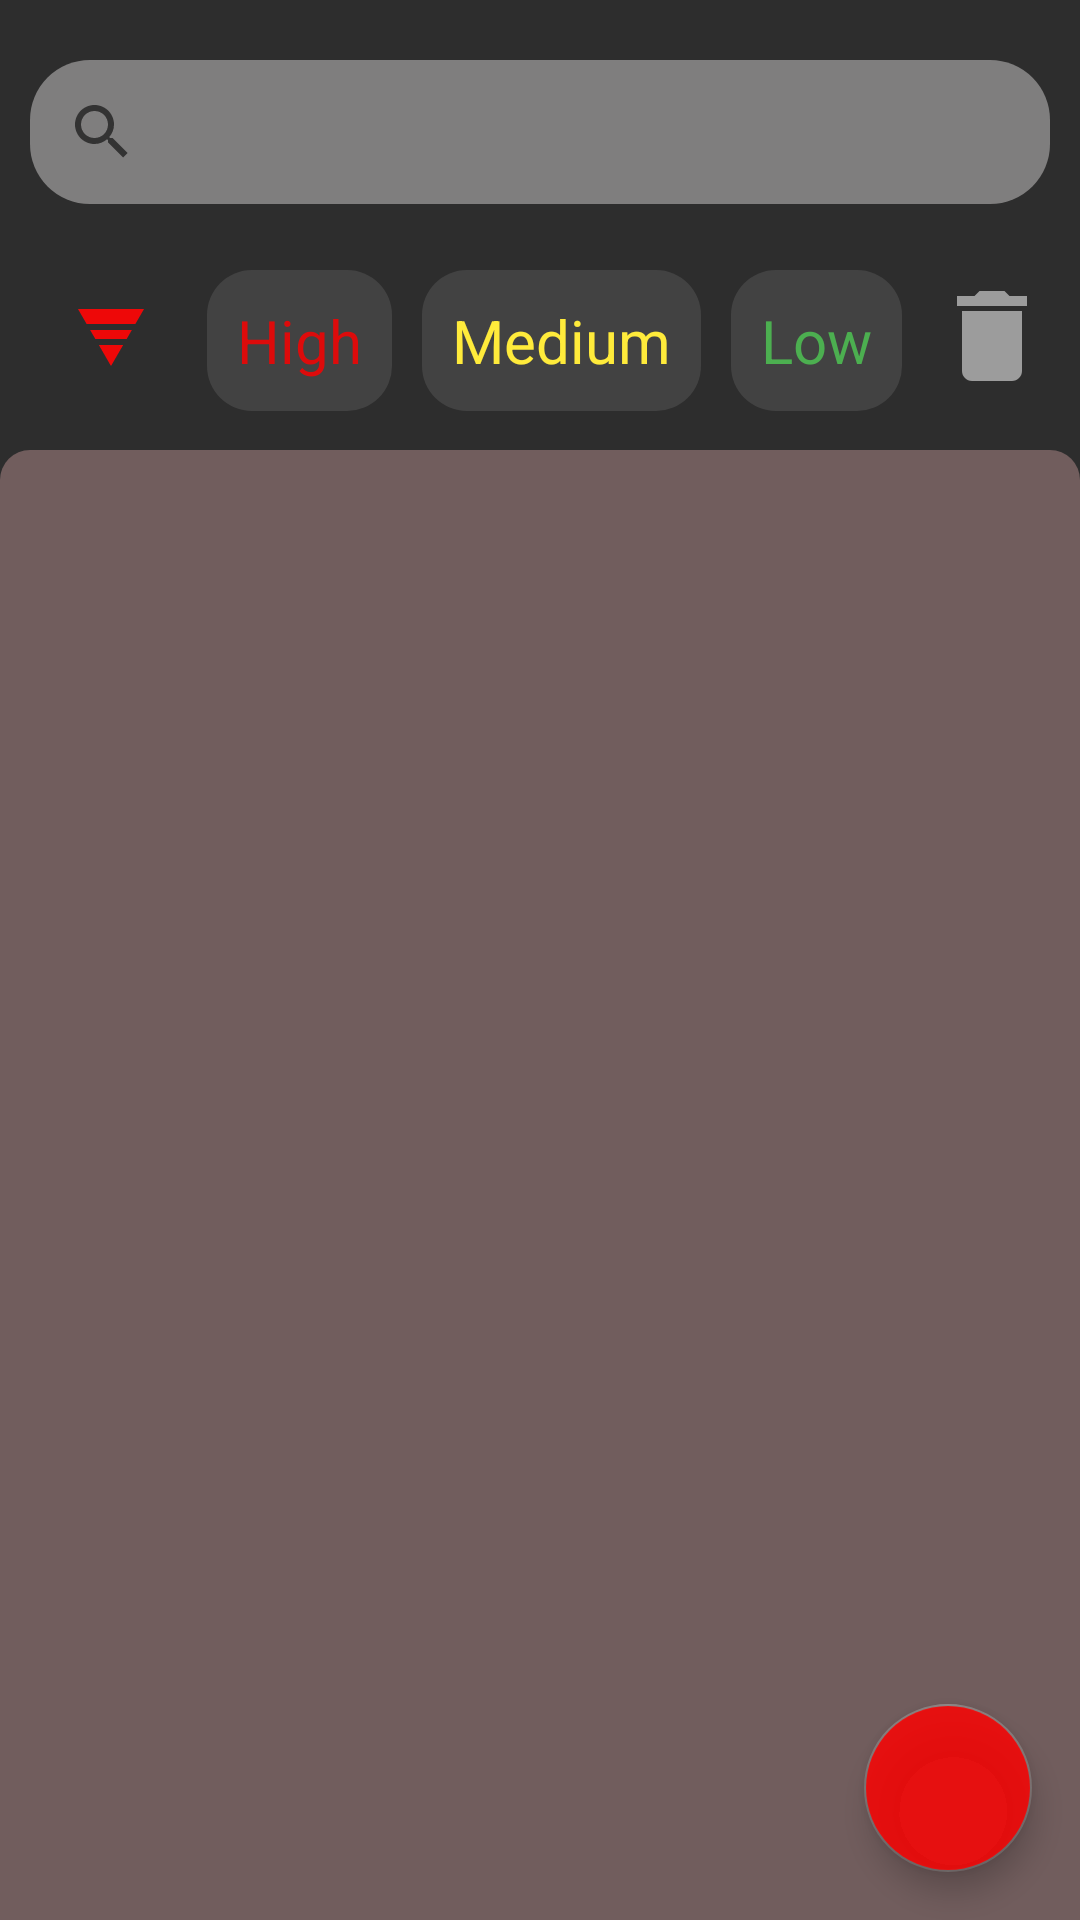

Point at icon controls on the screen. Image size 1080 × 1920, points as point (x, y).
tornado: point (111, 337)
